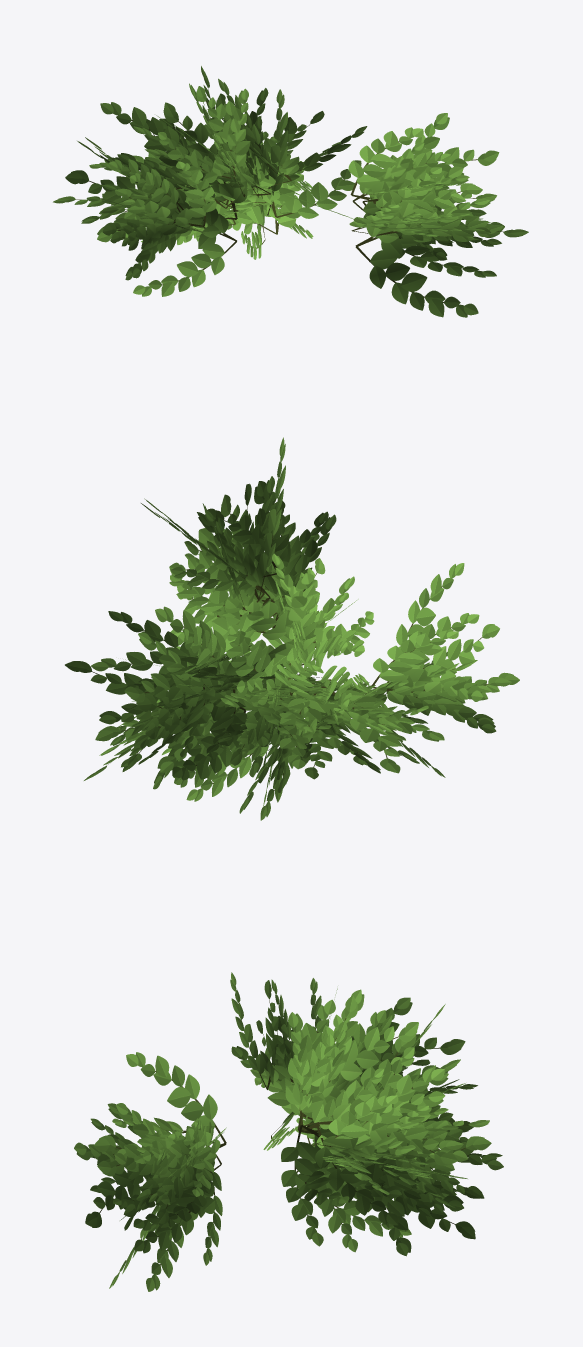
The model's file is bush_3_mid.glb.
The picture shows the model from 3 angles, top to bottom: view 1: azimuth 30°, elevation 25°; view 2: azimuth 150°, elevation 25°; view 3: azimuth 270°, elevation 25°; orthographic projection. The views are drawn at different scales.
Parts seen in each view (by area): view 1: bush_3_mid; view 2: bush_3_mid; view 3: bush_3_mid.
Boxes of the visible parts, x1,y1,x2,y2 form: bush_3_mid: (53, 66, 528, 317); bush_3_mid: (65, 437, 519, 820); bush_3_mid: (74, 972, 503, 1291).
Size of the model in its own units: 3.32 by 1.98 by 3.34.
1 material, 1 textured.
